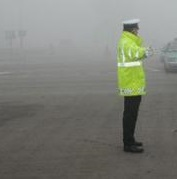person: (110, 18, 154, 155)
